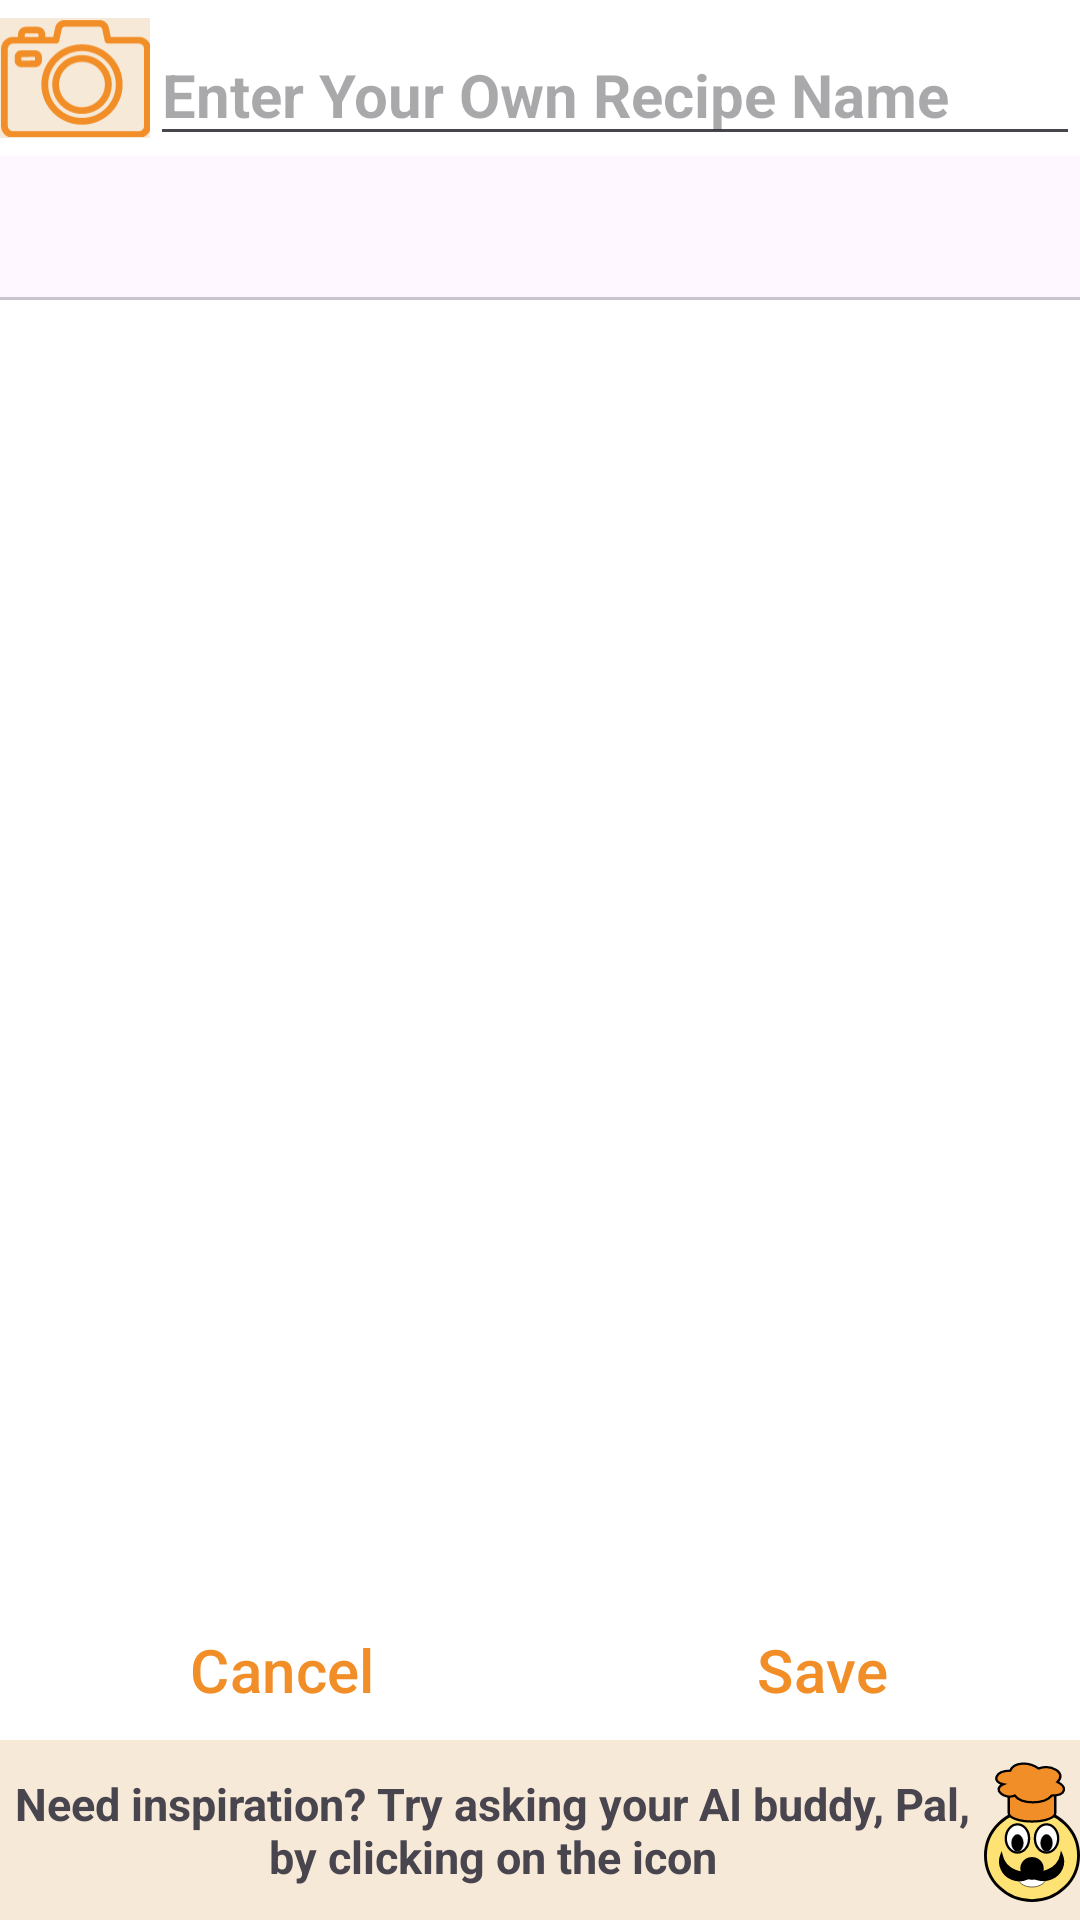

Icons on this 1080*1920 Android screen, each with the point to tap as point (x, y):
camera: point (75, 78)
